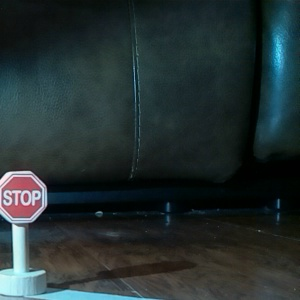stop sign: (1, 168, 55, 299)
